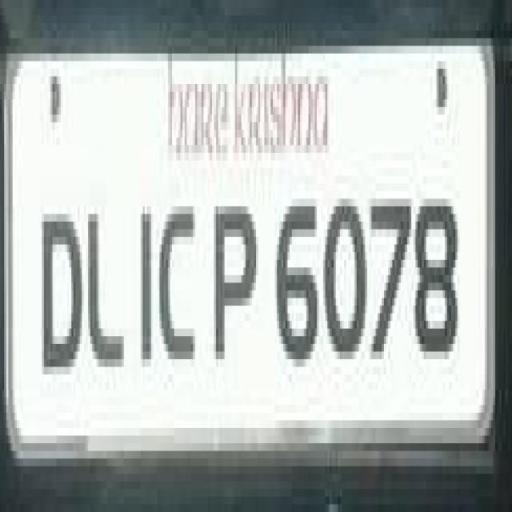number plate: (0, 8, 487, 481)
